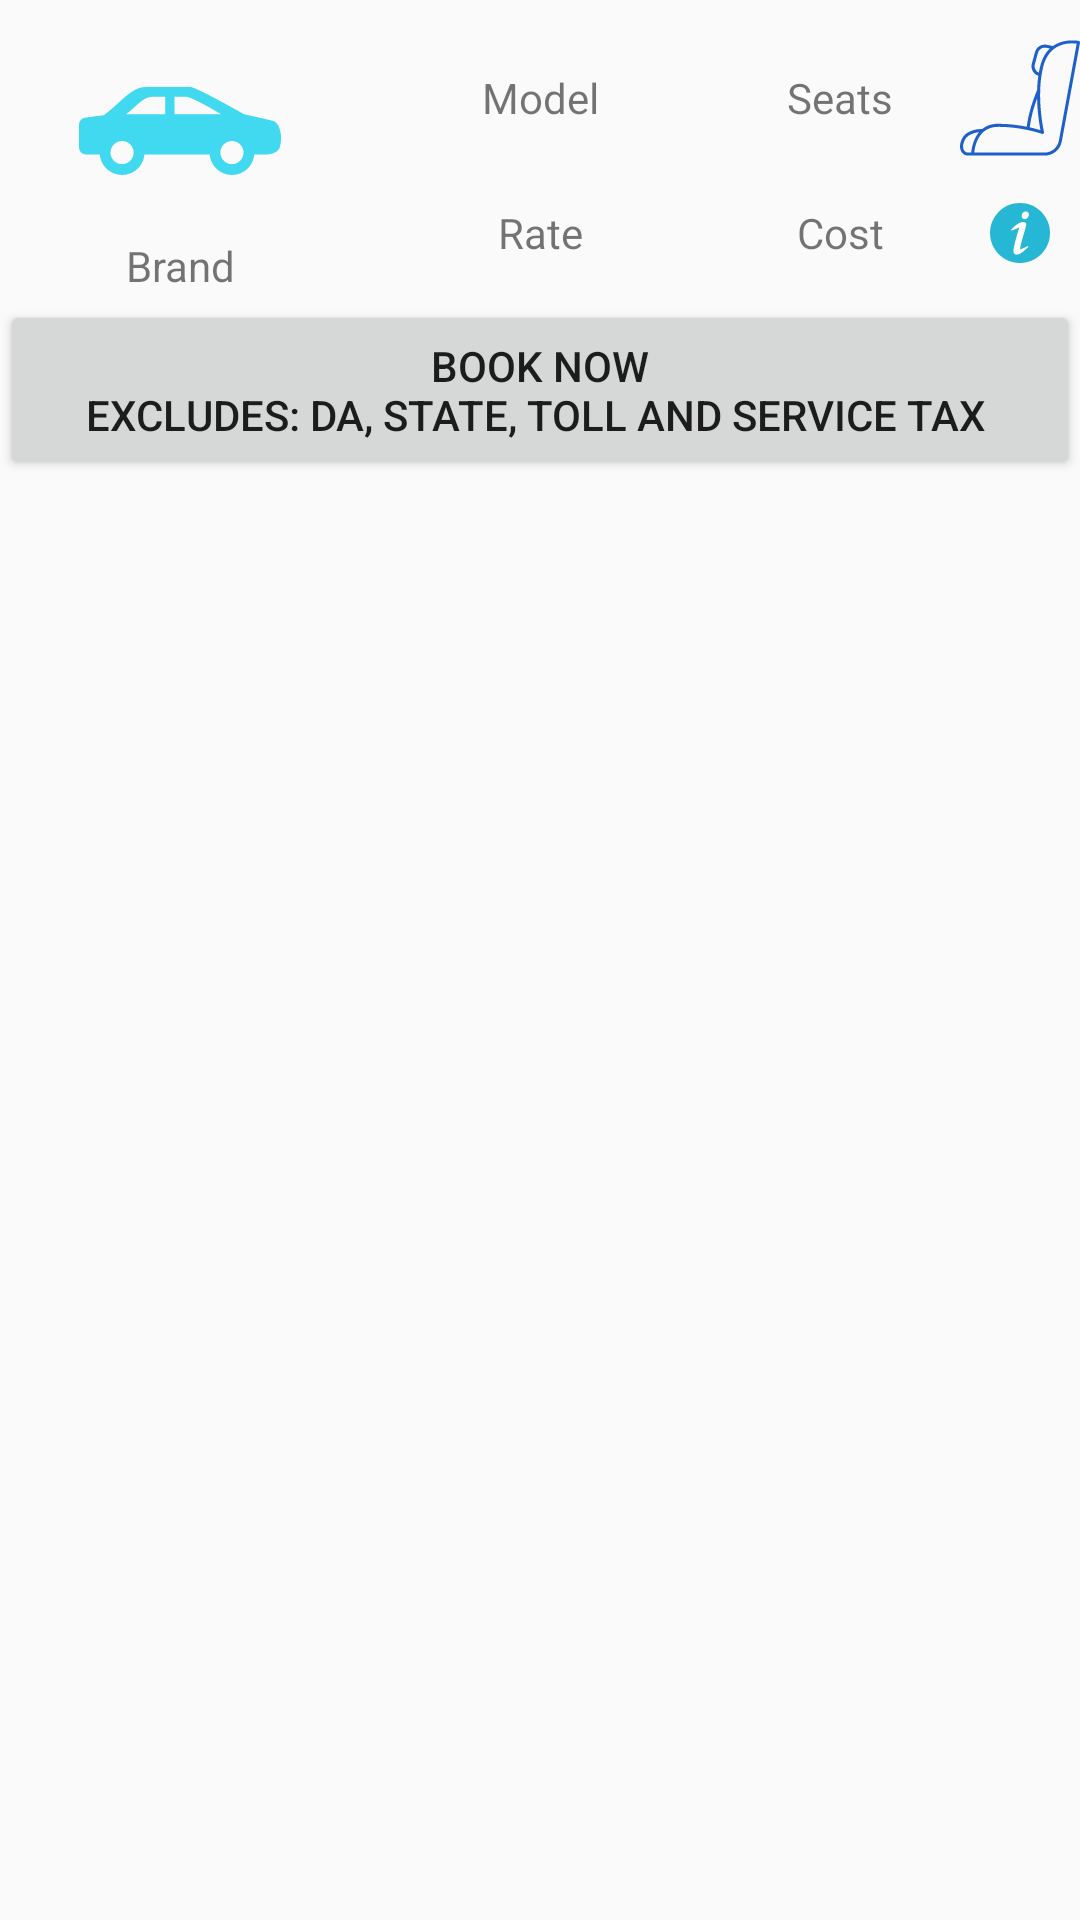

Screen size 1080*1920. Icon name, then its box in pixels as detection(x1, y1, x2, y2):
car: detection(79, 87, 281, 175)
car seat: detection(960, 40, 1080, 156)
info: detection(990, 203, 1050, 263)
